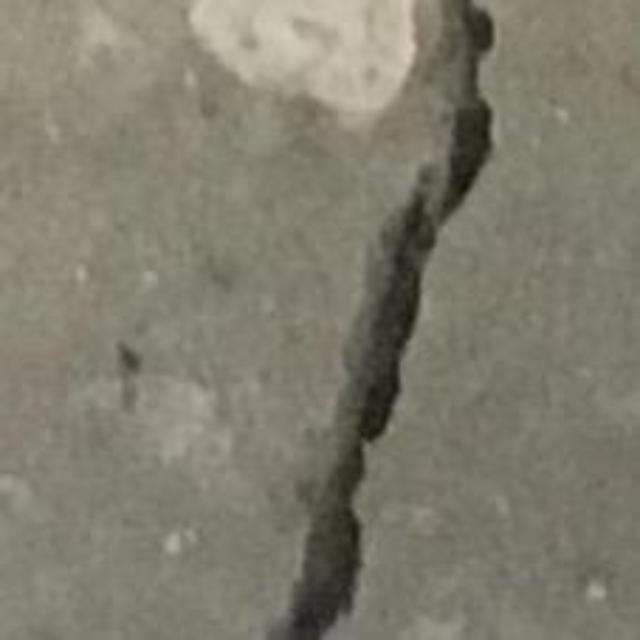crack: (268, 0, 493, 639)
